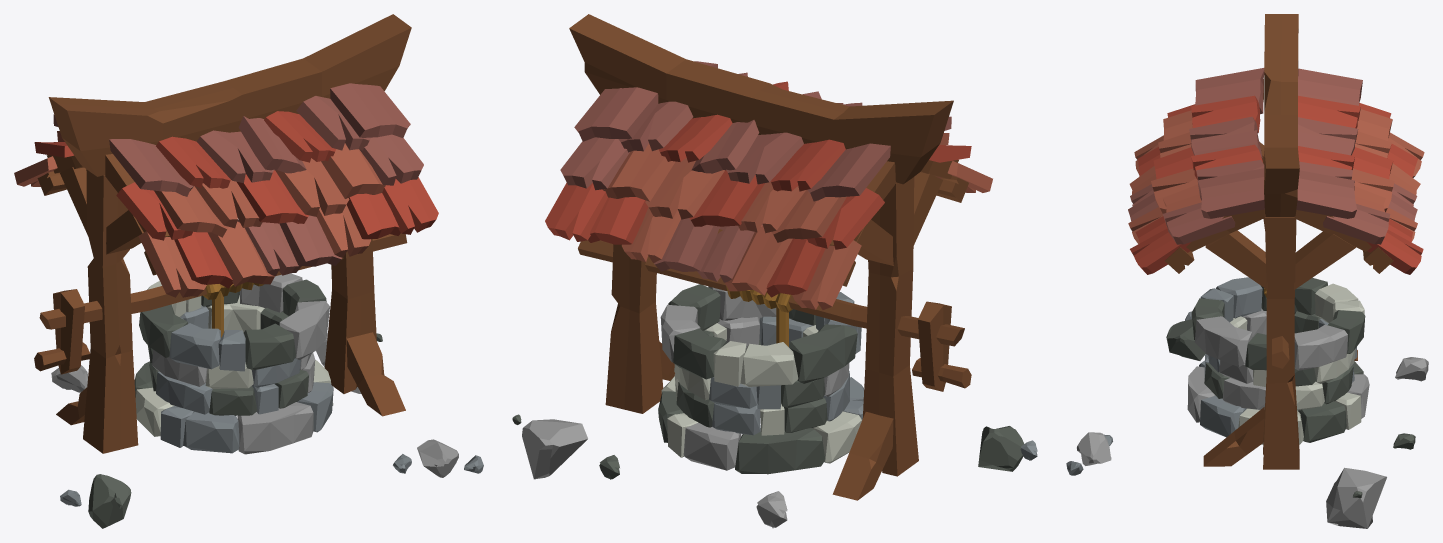
The model's file is fontaine-1 (source).glb.
The picture shows the model from 3 angles, left to right: view 1: azimuth 30°, elevation 25°; view 2: azimuth 150°, elevation 25°; view 3: azimuth 270°, elevation 25°; orthographic projection. The views are drawn at different scales.
Visible parts, largest first — view 1: Cube.007, Cube.003, Cube.005, Cube, Cube.004, Cube.002, Cube.001, Cube.050, Cube.031, Cube.027, Cube.042, Cube.025 (+28 smaller); view 2: Cube.007, Cube.003, Cube.005, Cube, Cube.004, Cube.002, Cube.001, Cylinder, Cube.050, Cube.030, Cube.031, Cube.025 (+27 smaller); view 3: Cube.003, Cube.004, Cube.007, Cube, Cube.050, Cube.042, Cube.009, Cube.041, Cube.002, Cube.001, Cube.043, Icosphere.007 (+24 smaller).
Boxes of the visible parts, x1,y1,x2,y2 form: Cube.007: (48, 14, 411, 176); Cube.003: (139, 273, 329, 371); Cube.005: (83, 169, 138, 453); Cube: (134, 360, 333, 454); Cube.004: (324, 239, 376, 393); Cube.002: (148, 296, 311, 388); Cube.001: (149, 352, 315, 415); Cube.050: (330, 83, 410, 137); Cube.031: (14, 156, 206, 297); Cube.027: (346, 332, 405, 416); Cube.042: (53, 114, 193, 196); Cube.025: (34, 289, 90, 374); Cube.007: (569, 14, 953, 184); Cube.003: (660, 284, 861, 386); Cube.005: (862, 177, 918, 476); Cube: (658, 376, 864, 474); Cube.004: (605, 244, 663, 413); Cube.002: (674, 316, 849, 409); Cube.001: (674, 340, 849, 435); Cylinder: (578, 240, 964, 346); Cube.050: (574, 61, 717, 141); Cube.030: (832, 412, 893, 500); Cube.031: (792, 161, 992, 309); Cube.025: (912, 301, 971, 391); Cube.003: (1191, 277, 1365, 370); Cube.004: (1263, 214, 1299, 469); Cube.007: (1264, 14, 1299, 216); Cube: (1187, 360, 1369, 444); Cube.050: (1197, 168, 1356, 218); Cube.042: (1195, 68, 1362, 113); Cube.009: (1205, 142, 1355, 289); Cube.041: (1163, 202, 1390, 244); Cube.002: (1208, 308, 1357, 386); Cube.001: (1204, 354, 1354, 410); Cube.043: (1191, 95, 1360, 132); Icosphere.007: (1326, 467, 1386, 528).
Bounding box in the file's own units: 27.13 × 25.43 × 22.95.
